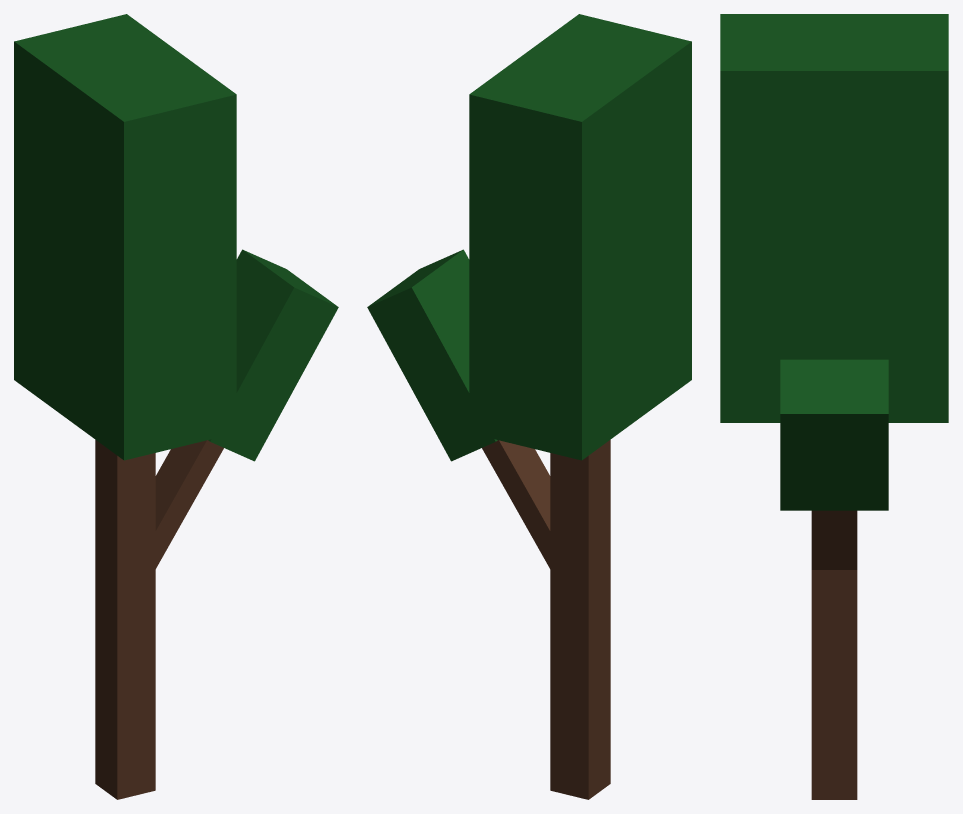
The model's file is SaruntanTree_1.2.fbx.
3 views of the same model, side by side, from view 1: azimuth 30°, elevation 25°; view 2: azimuth 150°, elevation 25°; view 3: azimuth 270°, elevation 25° (orthographic). The views are drawn at different scales.
Visible parts, largest first — view 1: Cube; view 2: Cube; view 3: Cube.
Boxes of the visible parts, left/top/right/bottom form: Cube: left=14, top=14, right=338, bottom=799; Cube: left=367, top=14, right=691, bottom=799; Cube: left=720, top=14, right=948, bottom=799.
Bounding box in the file's own units: 1276 × 3599 × 997.
1 material, 1 textured.
